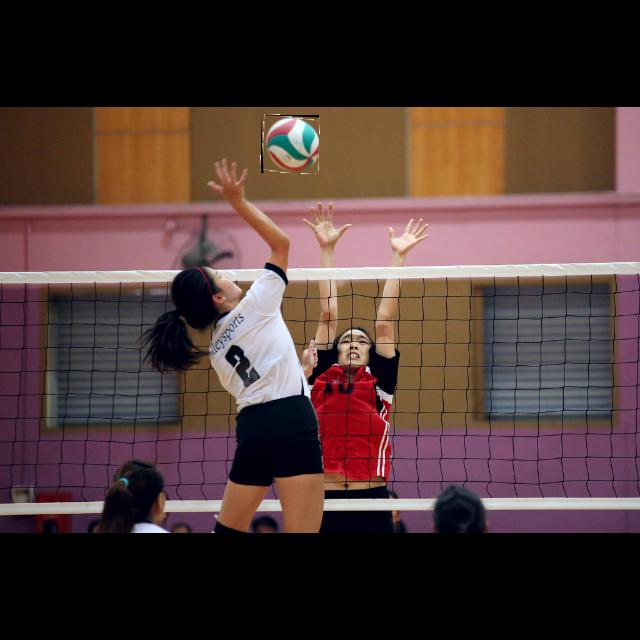Football: (261, 115, 319, 173)
